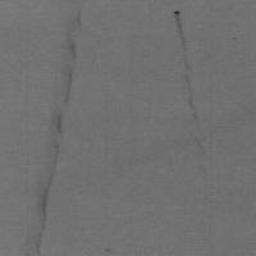Inclusion: (24, 0, 87, 256), (172, 9, 201, 124), (192, 136, 207, 156), (197, 161, 209, 175)
